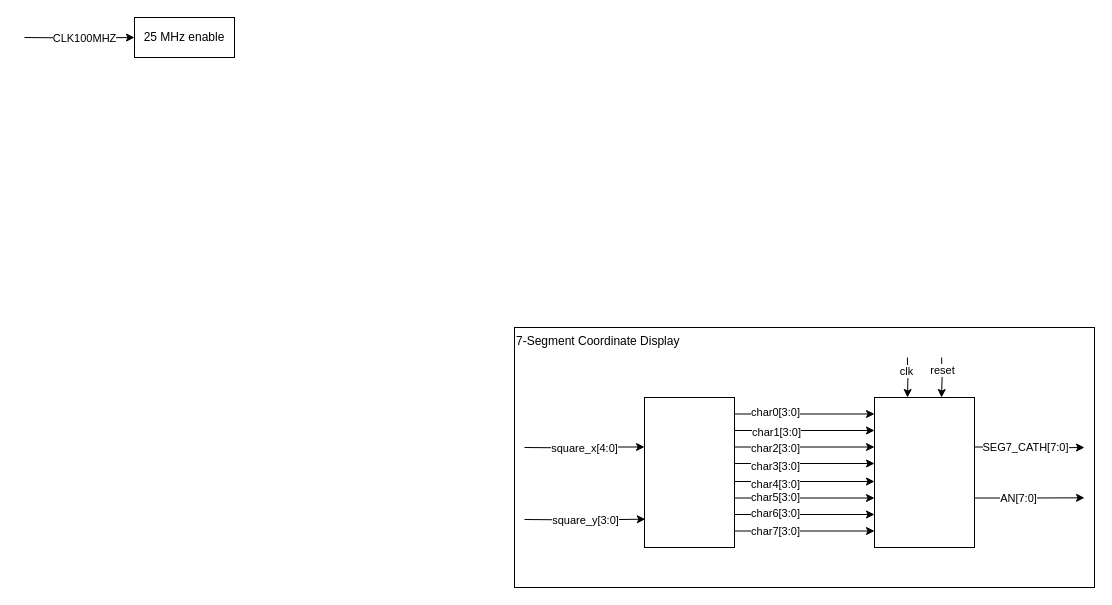
The diagram is 1112 pixels wide and 605 high, and some of its shapes have lost their labels. The centre of each missing label's shape, as x and y in pixels:
"7 Segment Controller" belongs at pixel 924 472.
"Coordinate Formatter X/Y -> 8 Hex Char using first 4 char" belongs at pixel 689 472.
